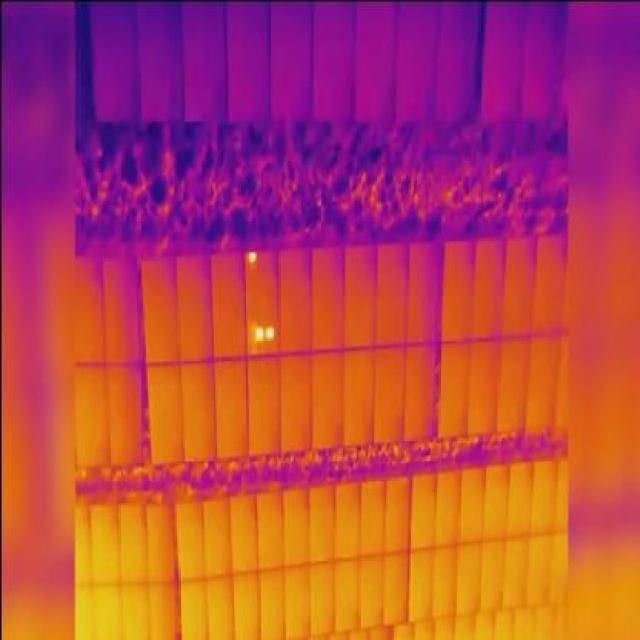hotspot: (253, 326, 262, 342), (264, 325, 273, 340), (248, 249, 255, 265)
